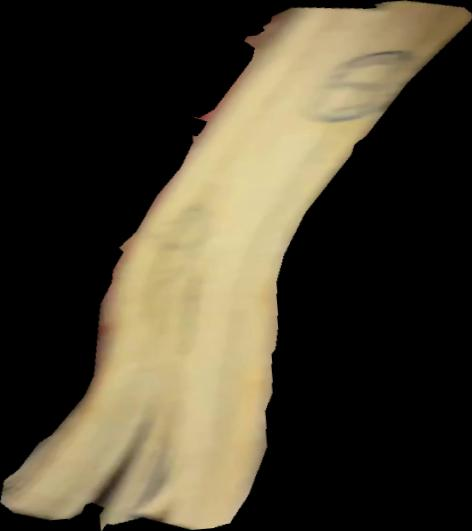backward: (1, 1, 472, 531)
